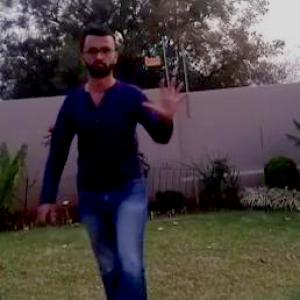follow_hand: (139, 74, 192, 116)
